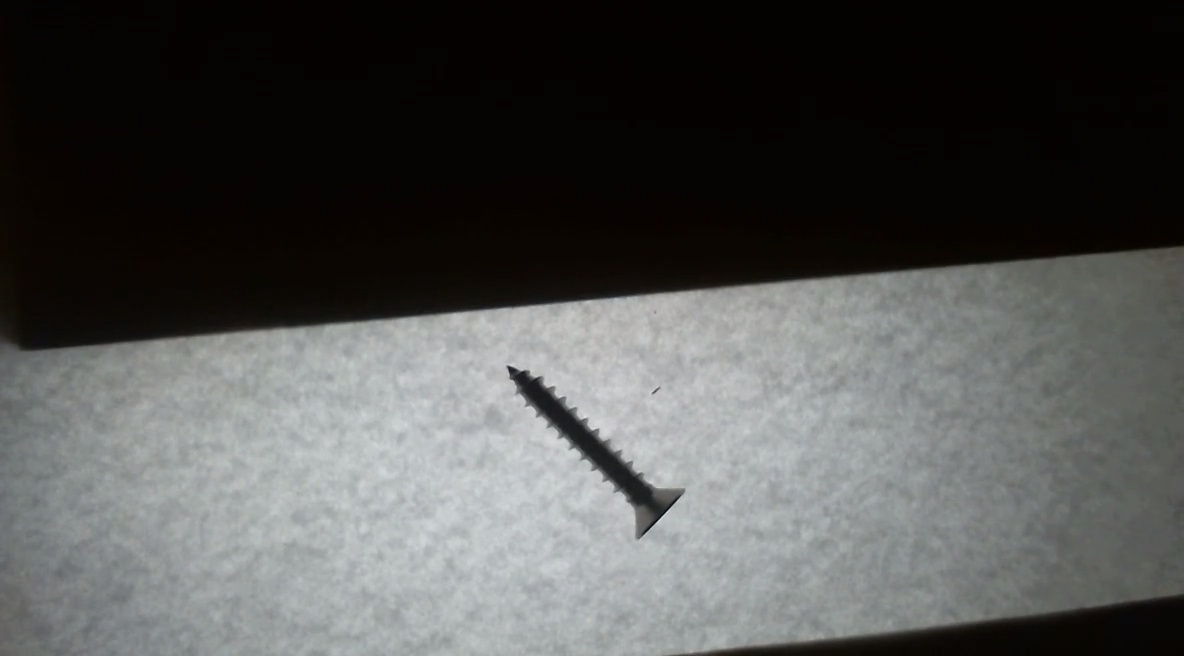S001: (482, 342, 694, 553)
